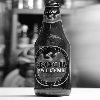beer: (33, 1, 77, 100)
